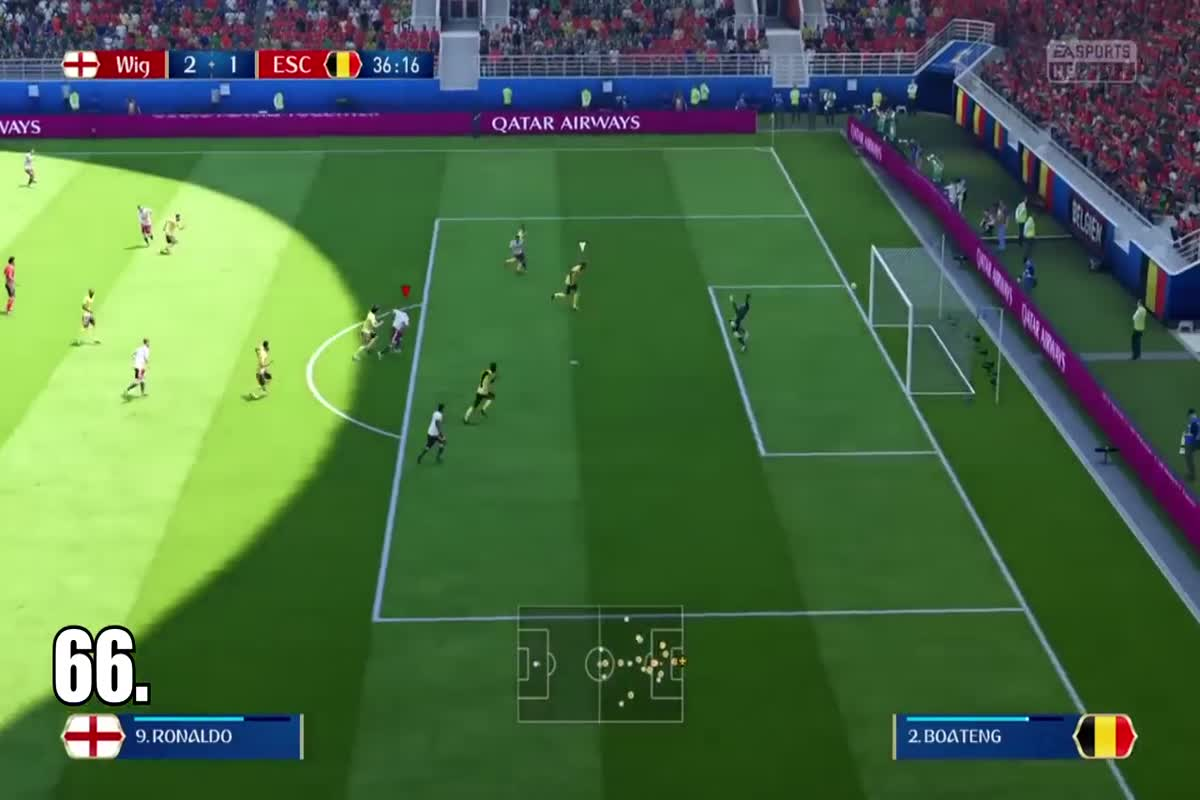ball: (842, 274, 864, 296)
